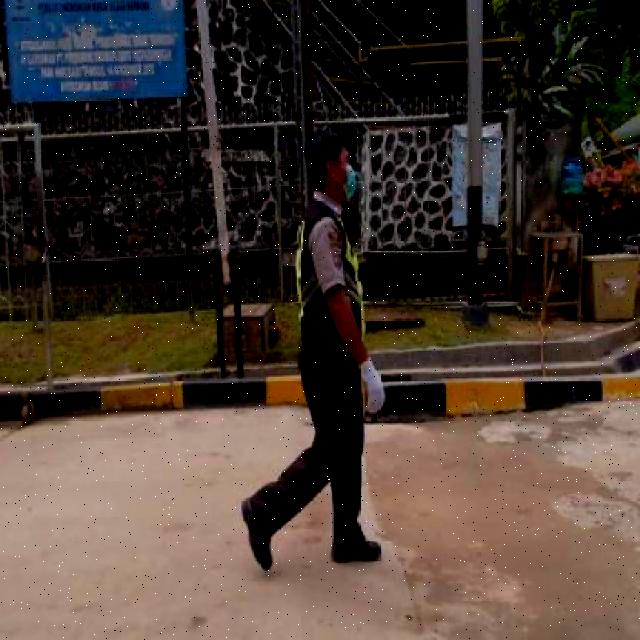Boots: (238, 497, 278, 574), (330, 534, 382, 570)
Gloves: (358, 356, 388, 416)
